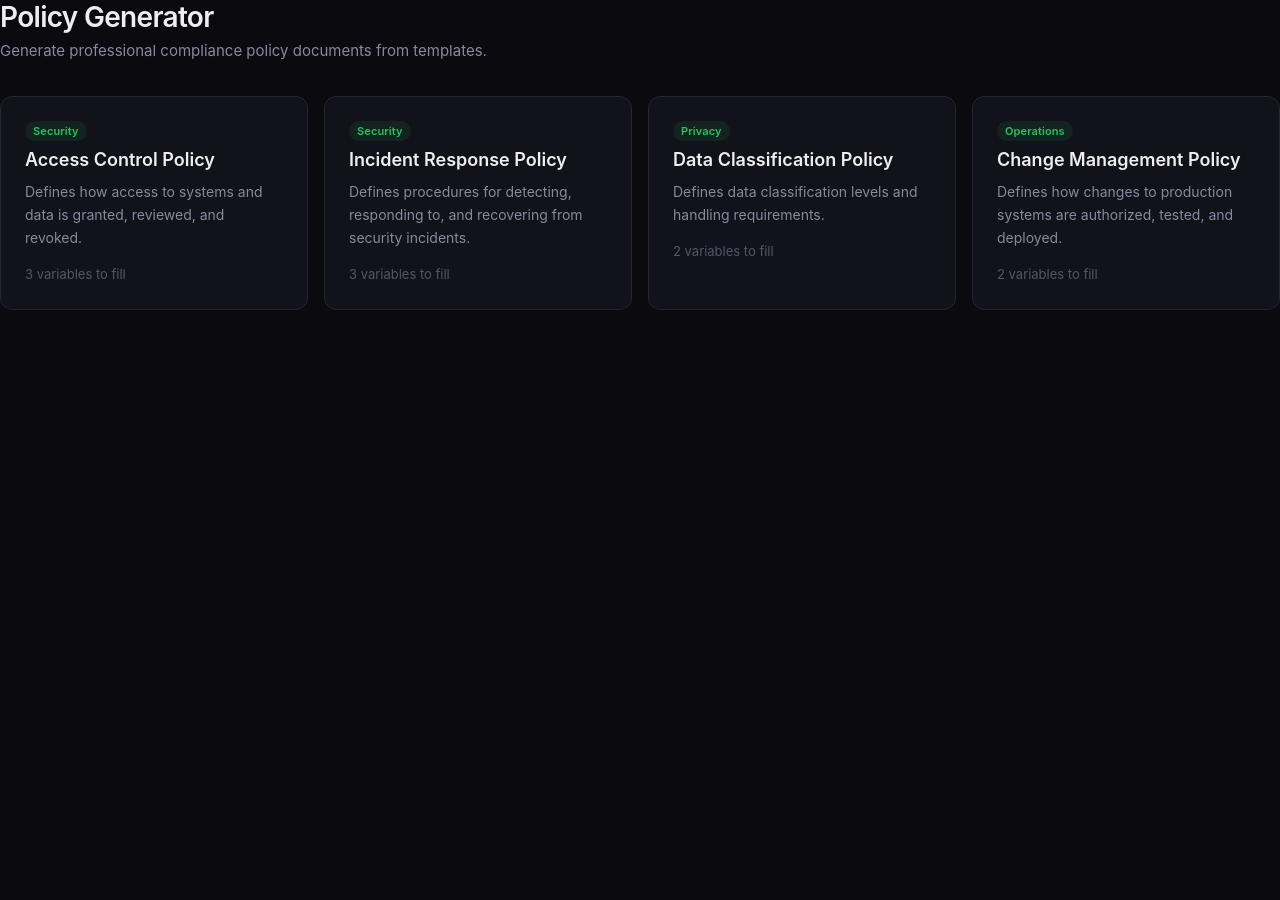
Test case: PoliciesPage › shows preview after filling variables
What coordinates should you click on to do the following:
click the heading "Access Control Policy"
I would click on:
 (120, 160)
Its box is [25,149,215,170].
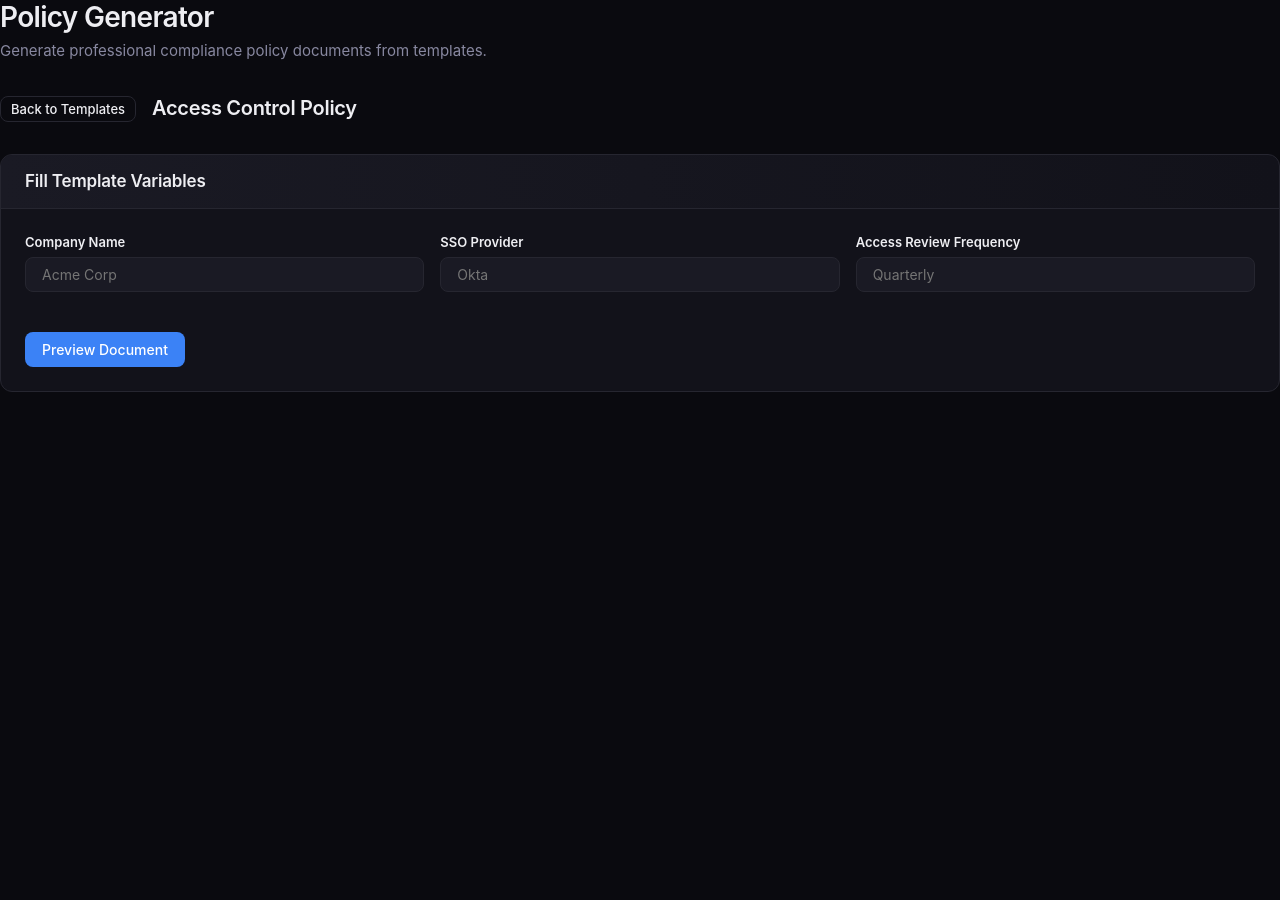
What coordinates should you click on to do the following:
click the button "Preview Document"
I would click on:
 (105, 349)
Its box is [25,332,185,366].
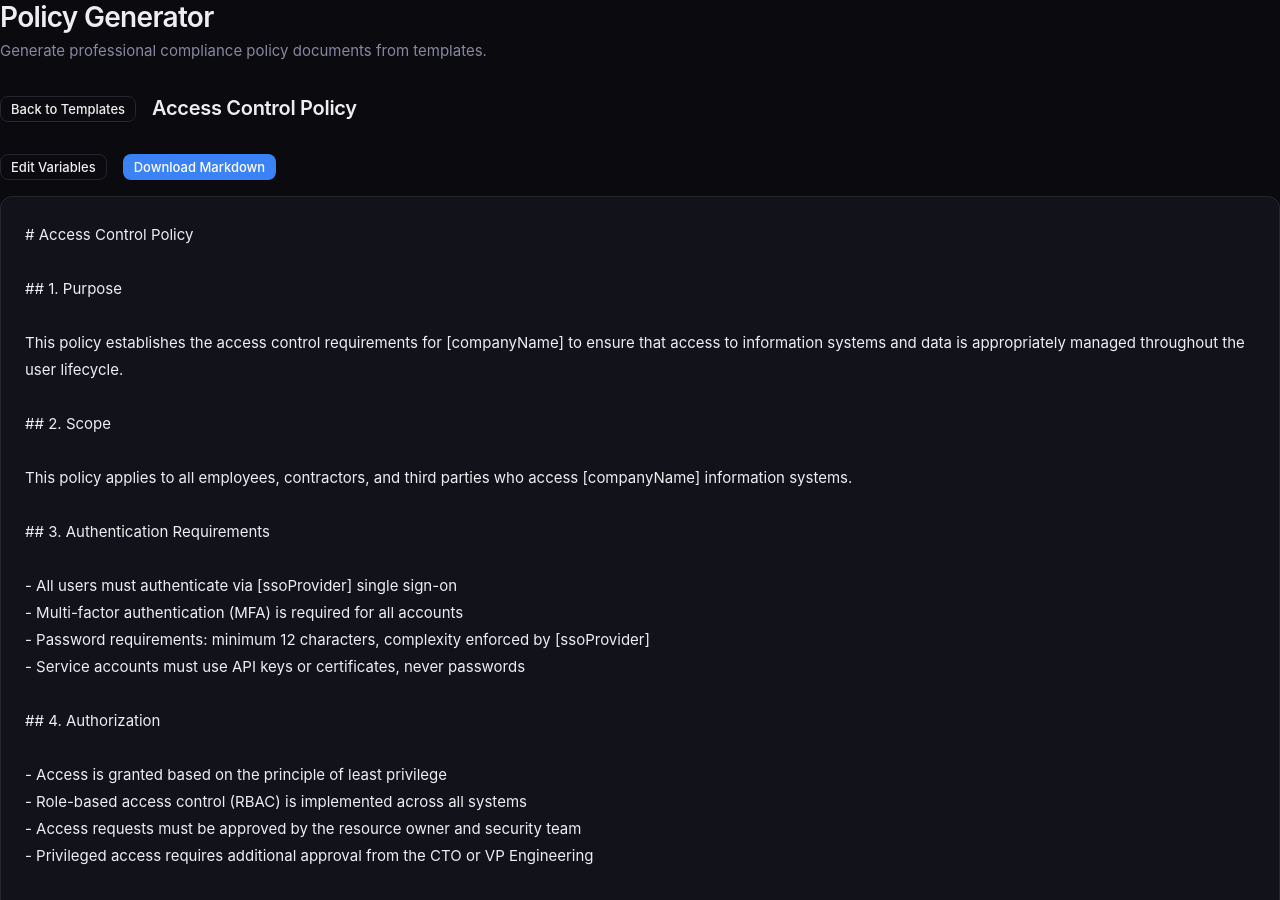
Result: the button "Edit Variables" is shown at [0,154,107,180]
Result: the button "Download Markdown" is shown at [123,154,276,180]
